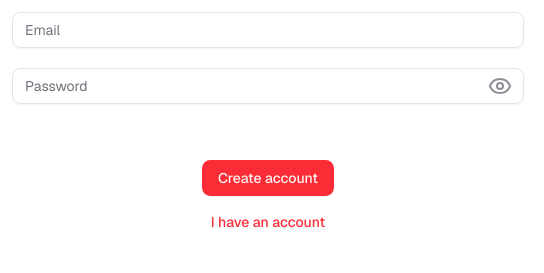
Test: SignupForm (unit) › forbids spaces in password
Type "user@example.com" into the field with placeholder "Email" at (268, 30), box [12,12,524,48]
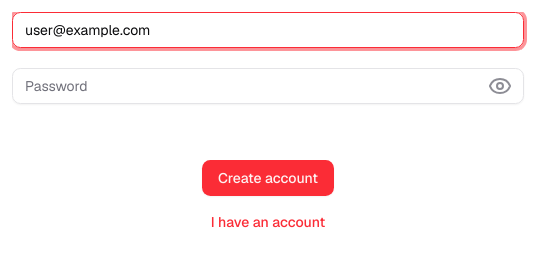
Type "abc 123" into the password field with placeholder "Password" at (268, 86), box [12,68,524,104]
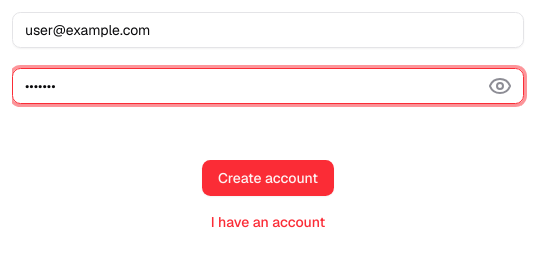
Click the button "Create account" at (268, 178), box [202,160,334,196]
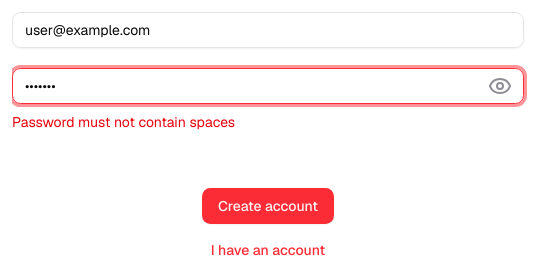
Expected: the text "Password must not contain spaces" is shown, [12,113,235,131]
